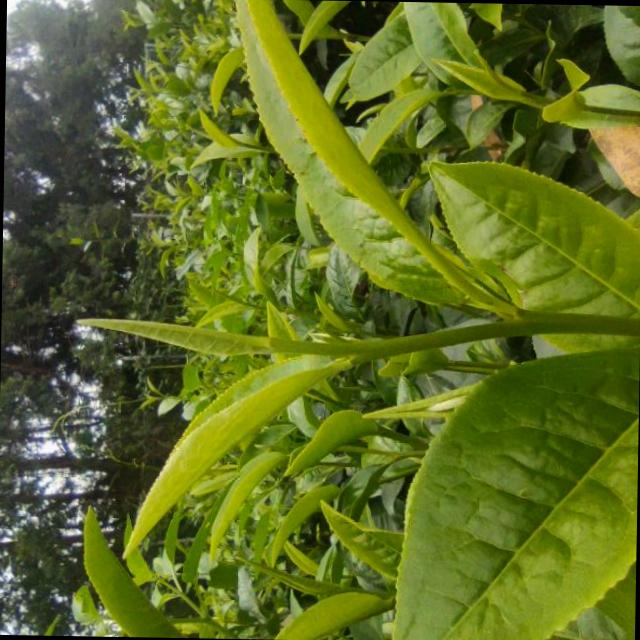Stem: (347, 339, 374, 364)
